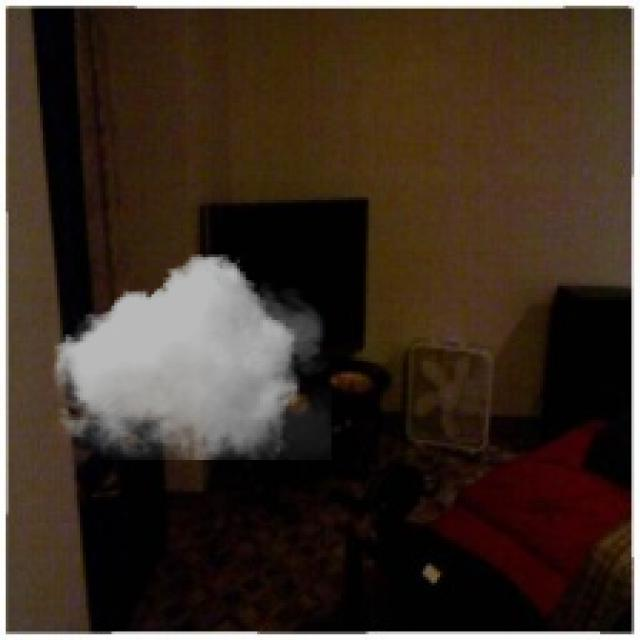smoke: (48, 254, 332, 460)
